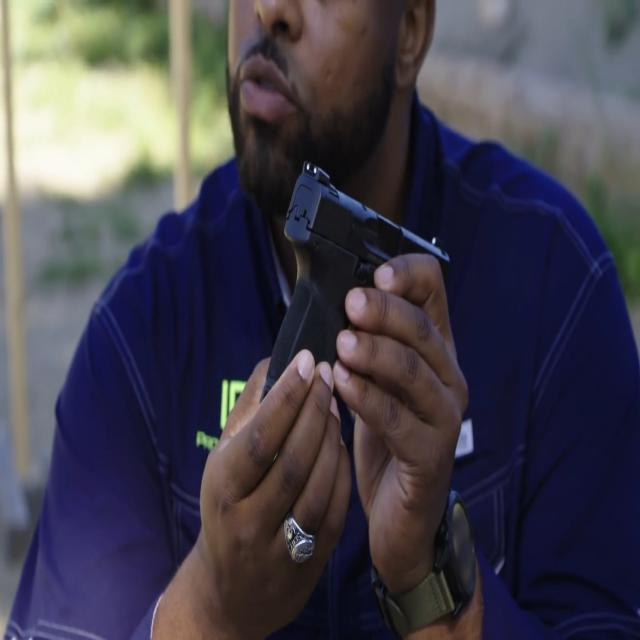handgun: (226, 116, 477, 454)
